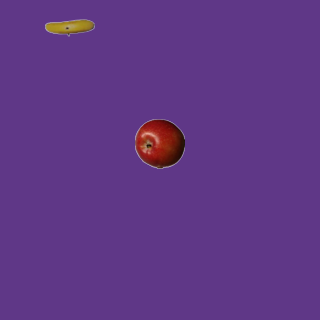Apple Braeburn: (134, 118, 184, 168)
Banana: (44, 2, 94, 52)
